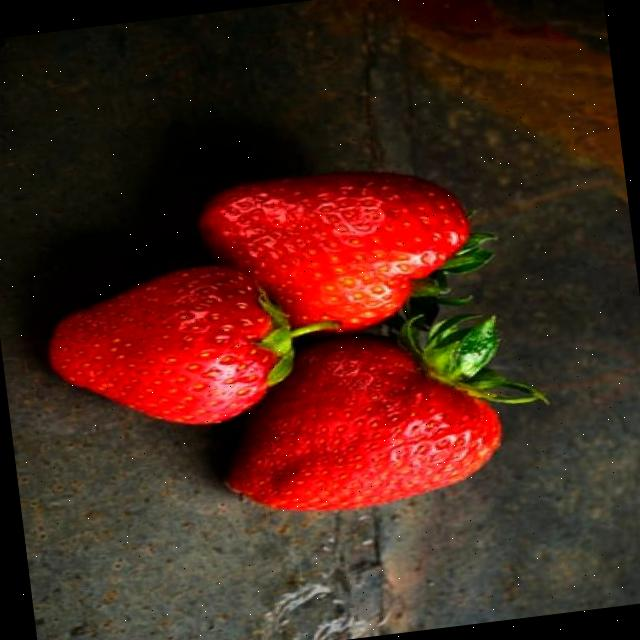strawberry: (212, 316, 510, 522), (198, 152, 482, 346), (40, 257, 289, 442)
